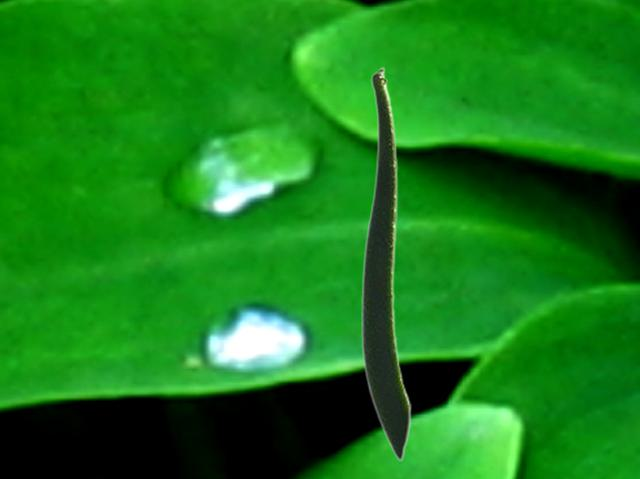french_bean: (360, 66, 411, 461)
